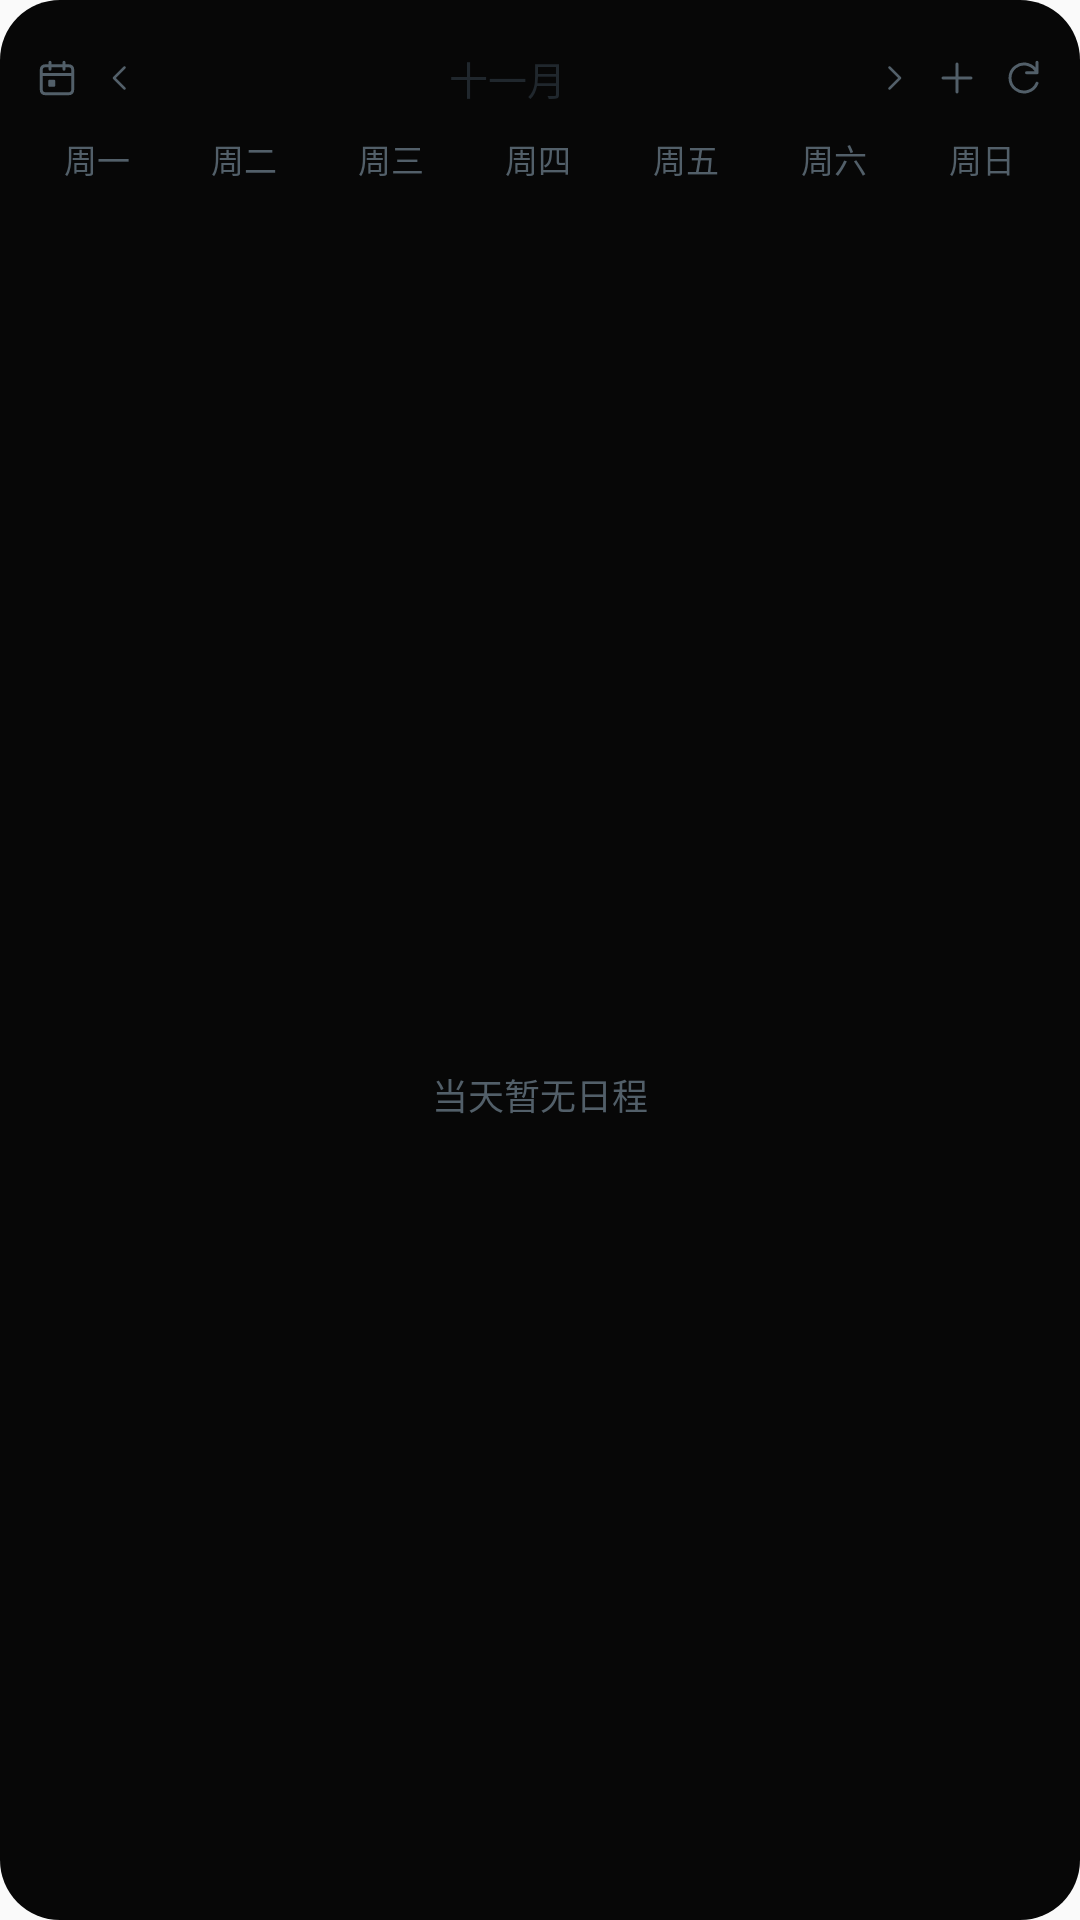

Icons on this 1080×1920 Android screen, each with its box as (x1, y1, x2, y2):
刷新日程: (1008, 61, 1039, 94)
前一天: (113, 66, 126, 90)
后一天: (888, 66, 901, 90)
回到今天: (40, 61, 74, 95)
在所选日期新建事件: (941, 62, 973, 94)
